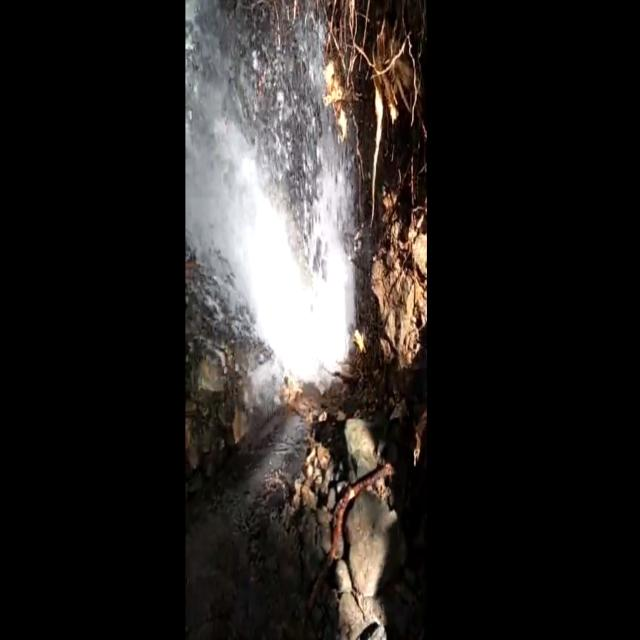leak: (186, 0, 355, 380)
